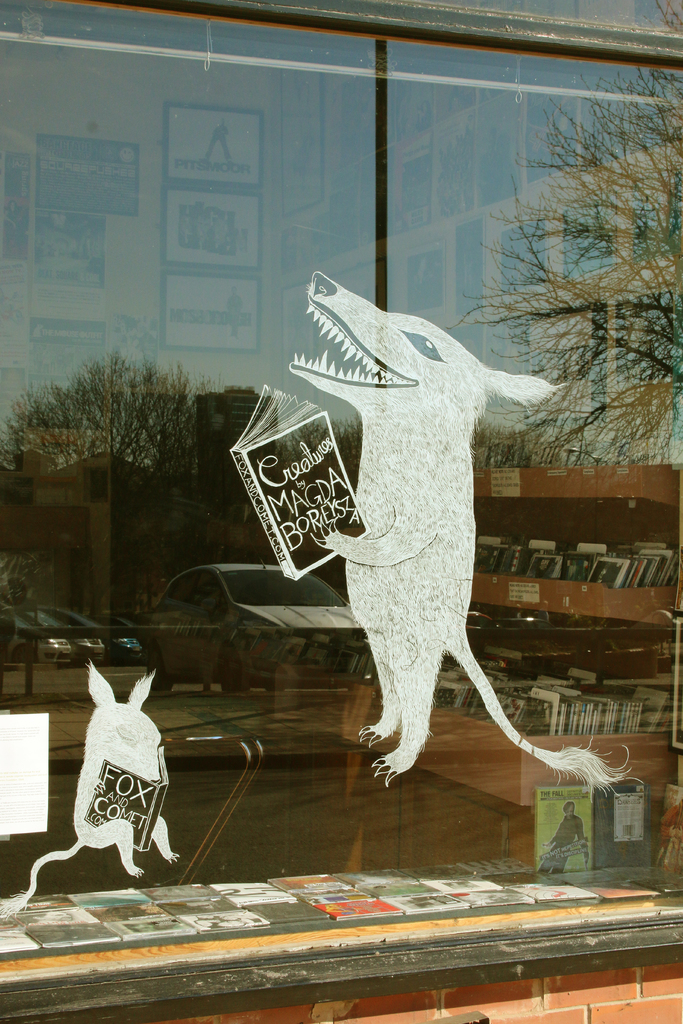Animal: (287, 267, 641, 801), (0, 659, 176, 921)
